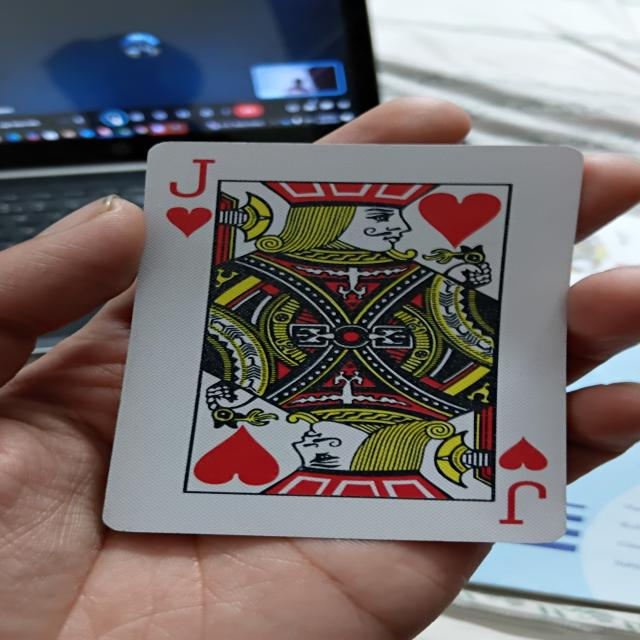JH: (127, 138, 578, 548)
